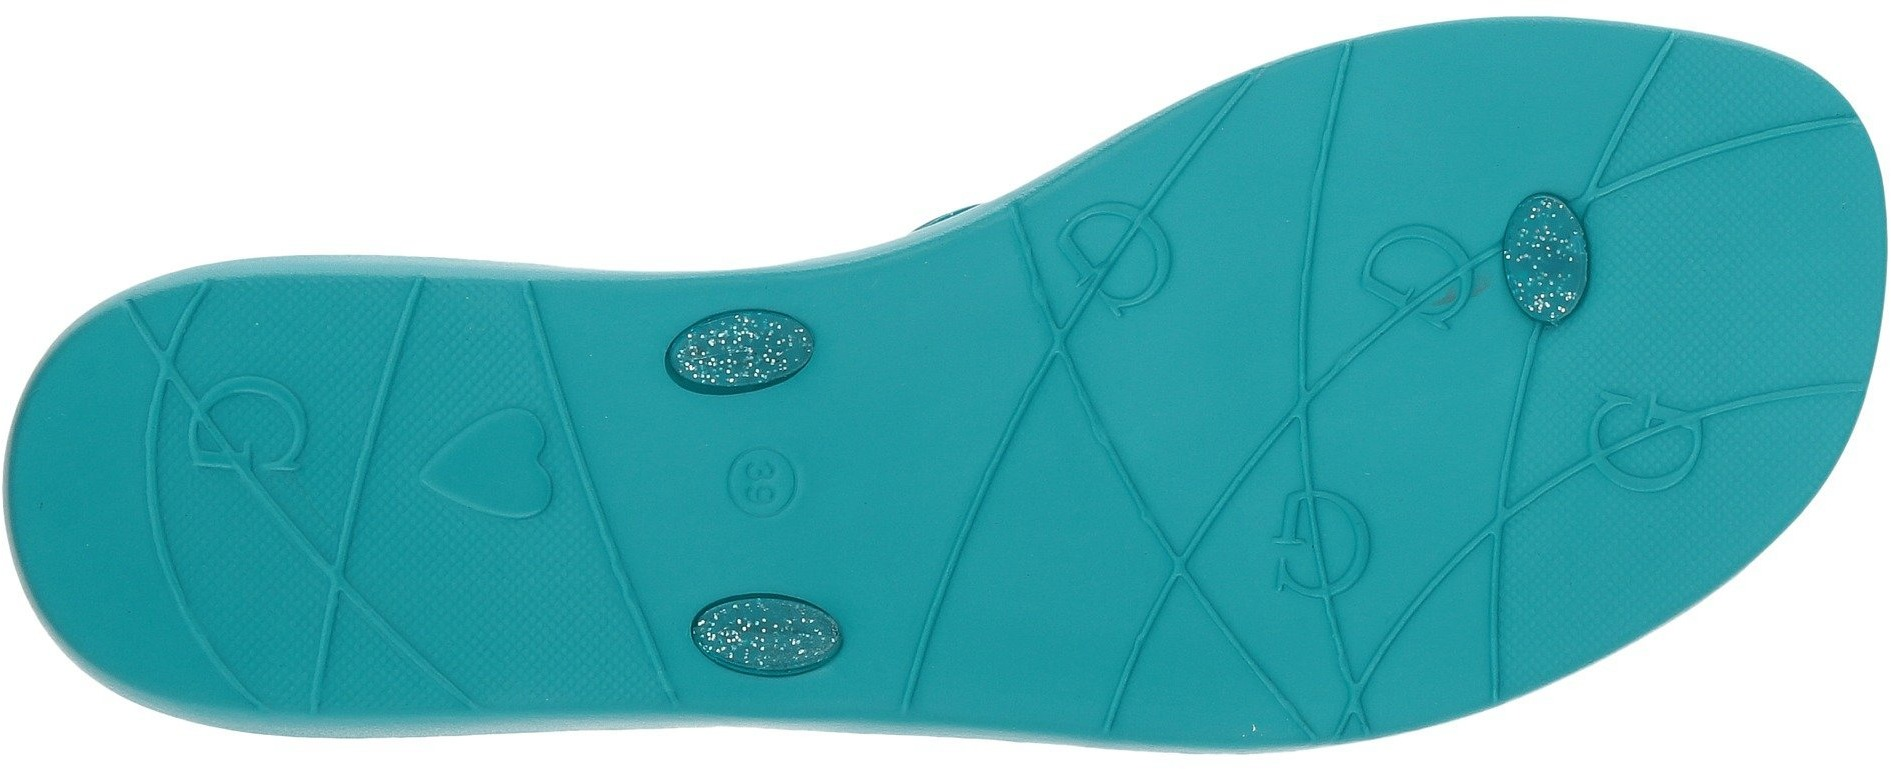chevron: (404, 380, 572, 534)
circle: (636, 272, 843, 440), (1460, 168, 1639, 352), (679, 552, 854, 704), (724, 442, 803, 522)
line: (1041, 202, 1190, 323), (1268, 350, 1378, 458)
other: (1362, 31, 1564, 187), (978, 507, 1135, 646), (857, 271, 1005, 412), (1122, 322, 1261, 450)
quad: (1638, 166, 1844, 358), (273, 570, 476, 717), (404, 380, 572, 534), (170, 345, 329, 499), (474, 556, 615, 683)
text: (170, 345, 329, 499), (1249, 475, 1392, 615), (1041, 202, 1190, 323), (724, 442, 803, 522), (734, 454, 788, 510)
triangle: (273, 570, 476, 717)
